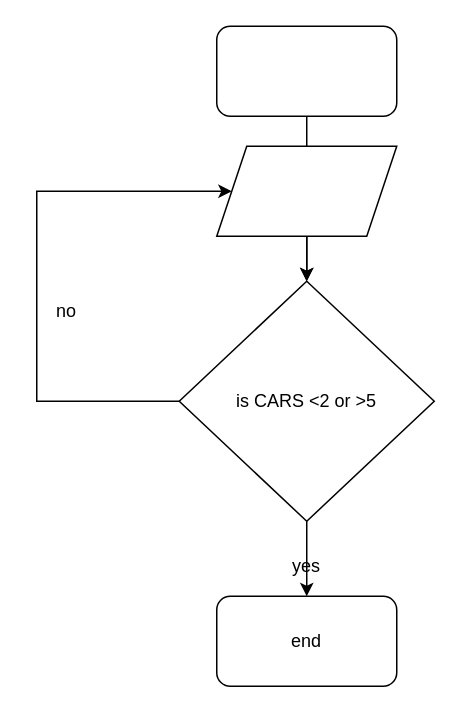
This 461x713 diagram has some shape labels left out. Each missing label, with the centre of its shape:
"input CARS" goes at point 306,190.
"start" goes at point 306,70.
